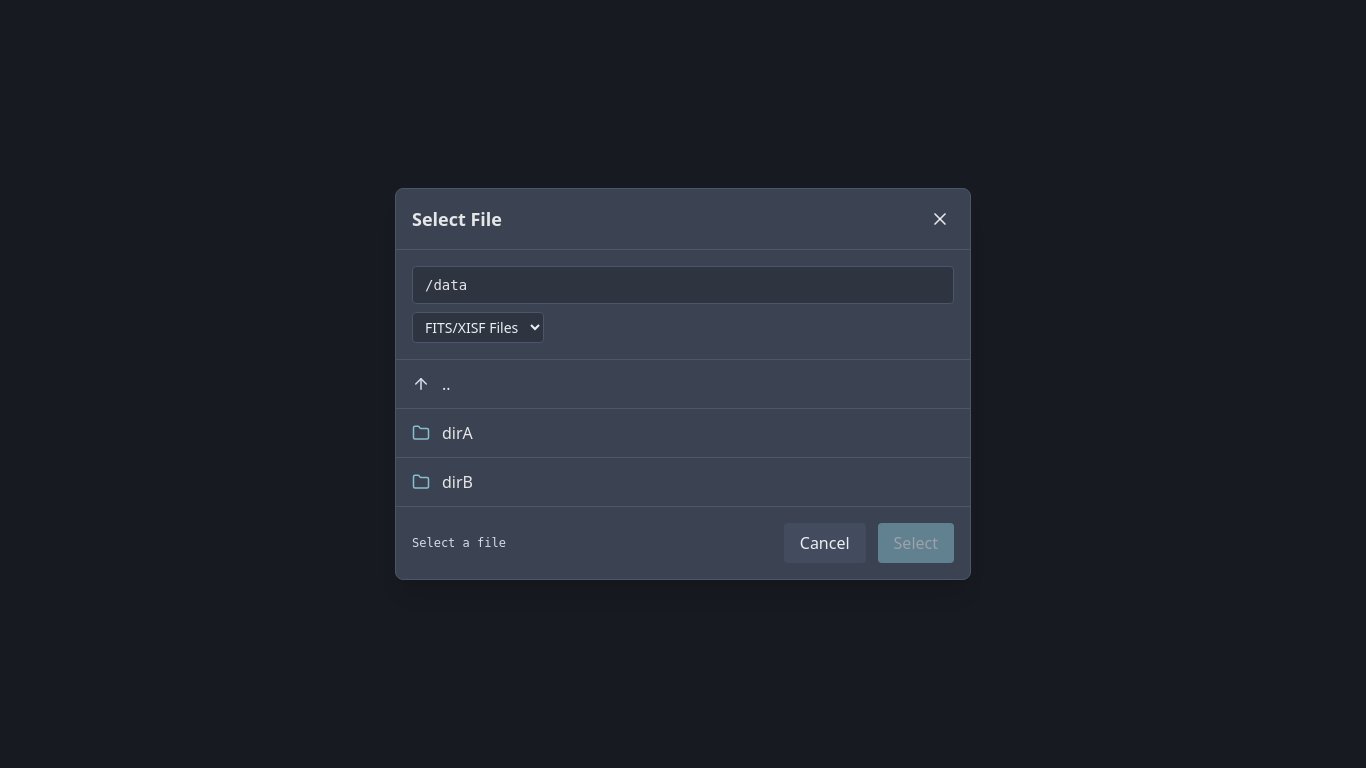
Test: FolderBrowserModal › ordering of answers › a late rejection of a superseded request shows no error
This screenshot has width=1366, height=768.
Step 1. Click the button "dirA" → {"x": 457, "y": 433}, box [396,408,970,457]
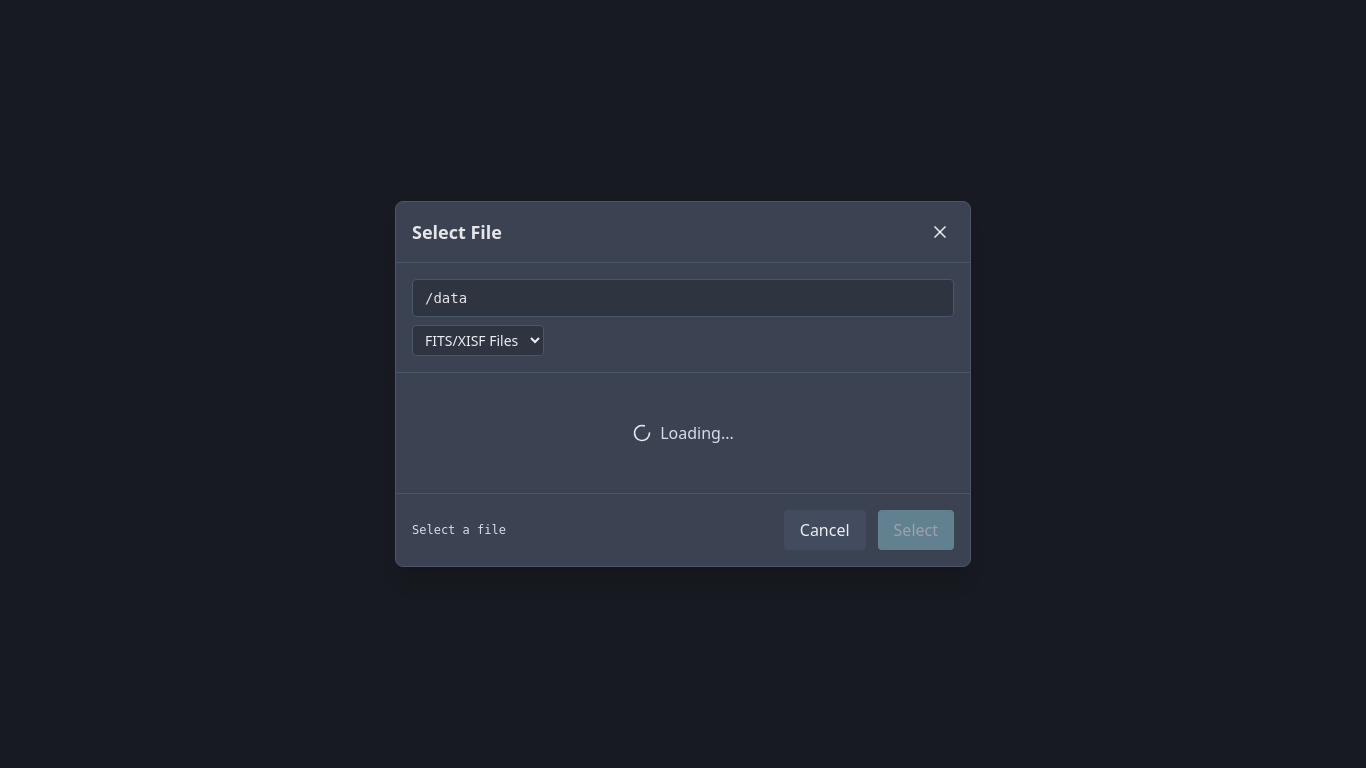
Step 2. Replace the text in the field with placeholder "Enter path and press Enter" with "/data/dirB" → {"x": 683, "y": 298}, box [412,279,954,317]
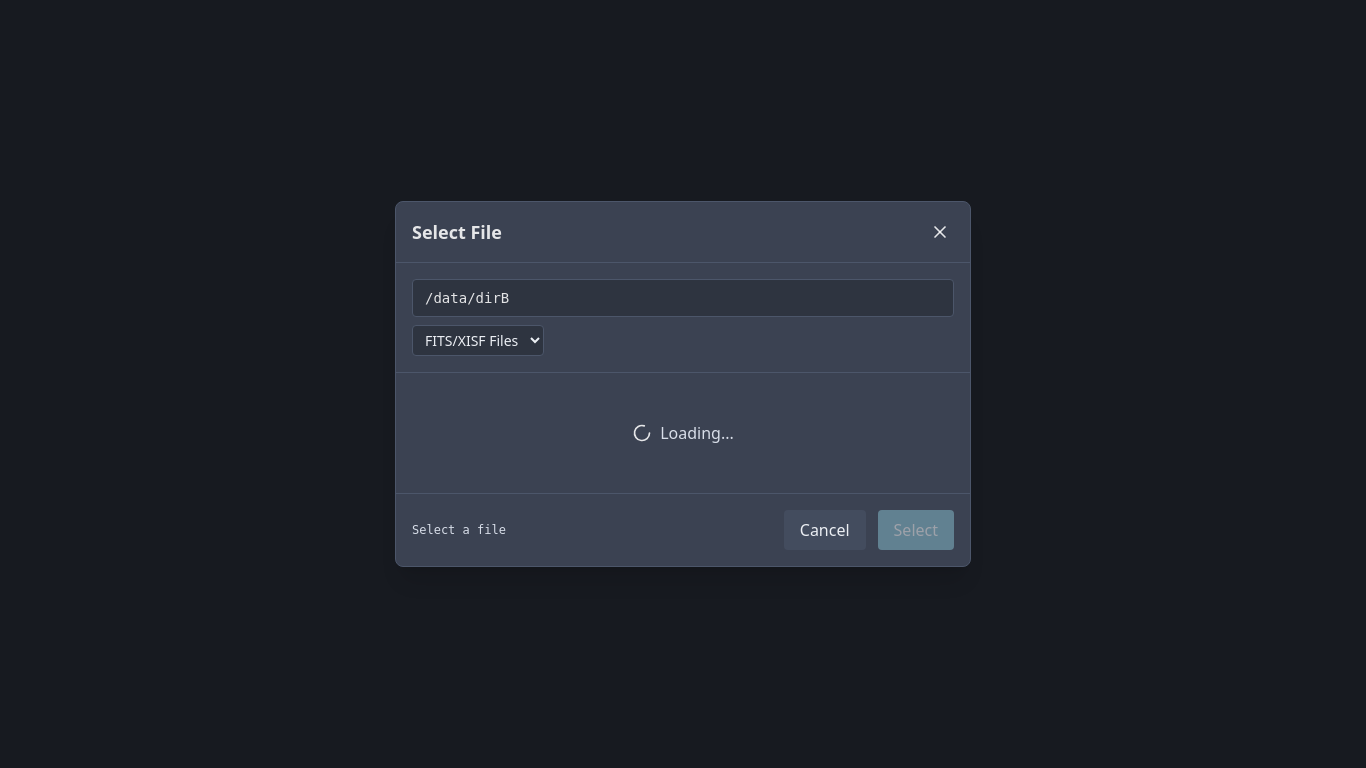
Step 3. Press Enter in the field with placeholder "Enter path and press Enter", box [412,279,954,317]
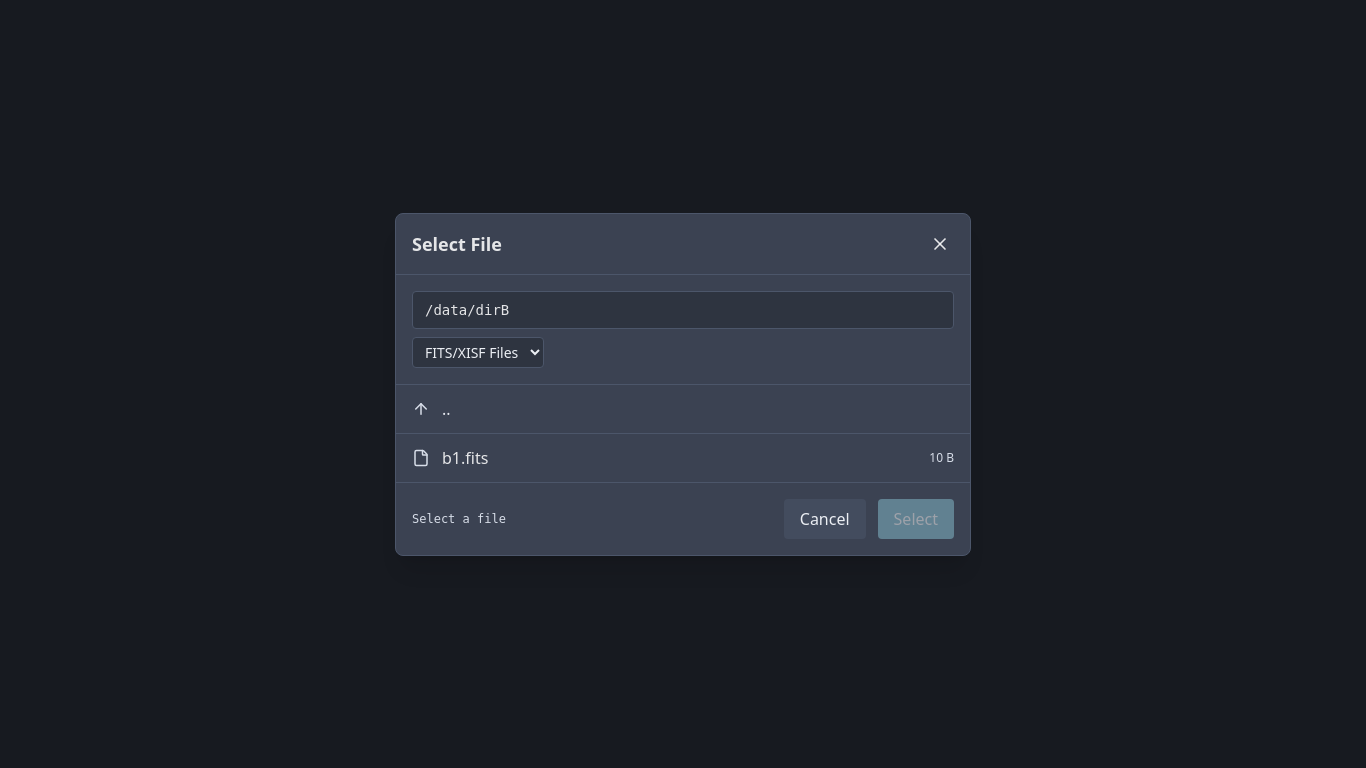
Expected: the text "b1.fits" is shown, [442,446,488,468]
Expected: the text "Loading..." is gone
